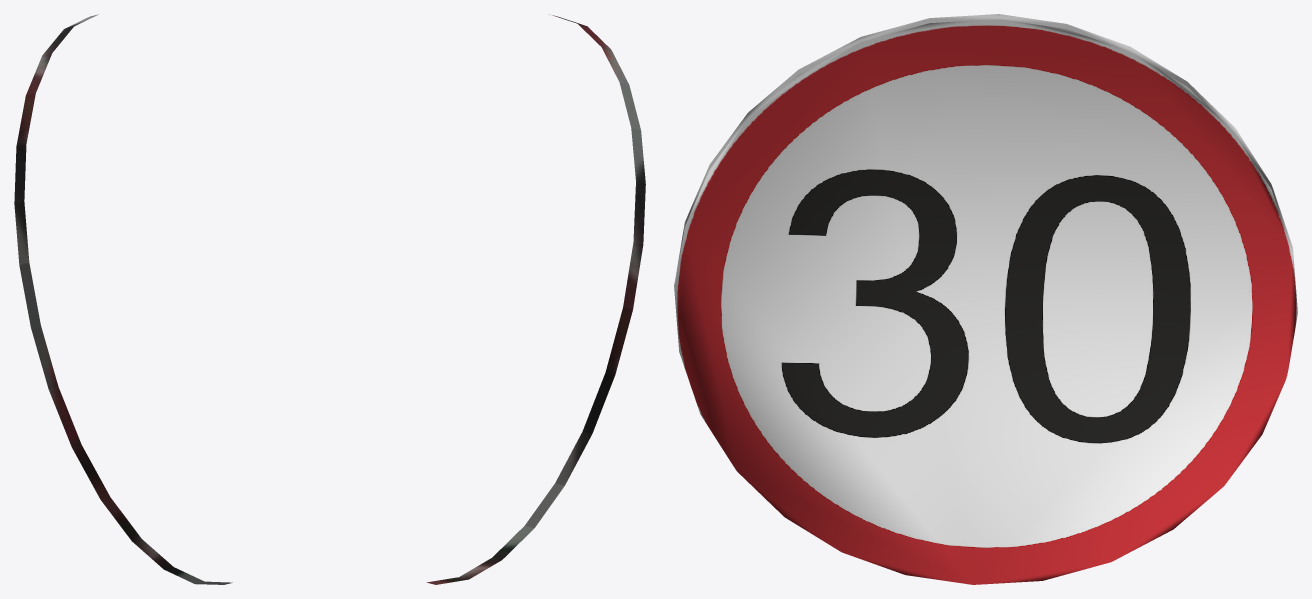
3 views of the same model, side by side, from view 1: azimuth 30°, elevation 25°; view 2: azimuth 150°, elevation 25°; view 3: azimuth 270°, elevation 25° (orthographic). The views are drawn at different scales.
Parts seen in each view (by area): view 1: model05; view 2: model05; view 3: model05.
Boxes of the visible parts, box(x1,y1,x2,y2) form: model05: box(14, 14, 232, 584); model05: box(426, 14, 645, 584); model05: box(674, 14, 1297, 584).
Bounding box in the file's own units: 0.0396 × 1.19 × 1.19.
Materials: 3 (3 with a texture image).
